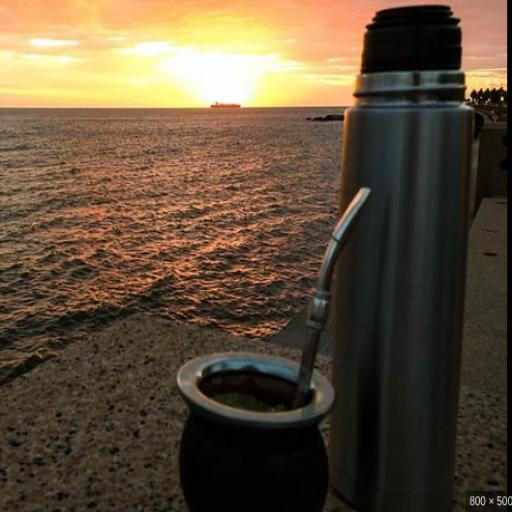mate: (178, 353, 335, 511)
termo: (331, 5, 474, 511)
